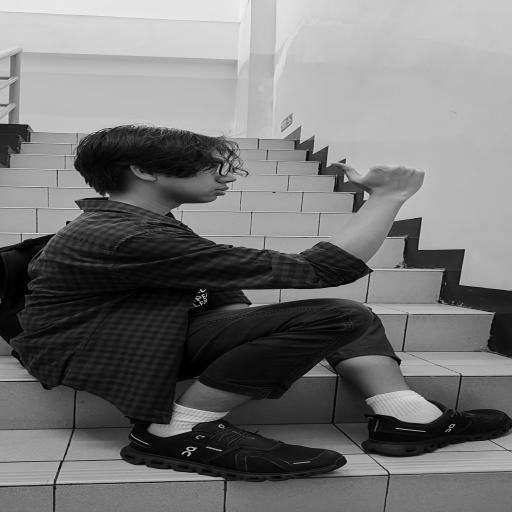back: (330, 158, 450, 207)
